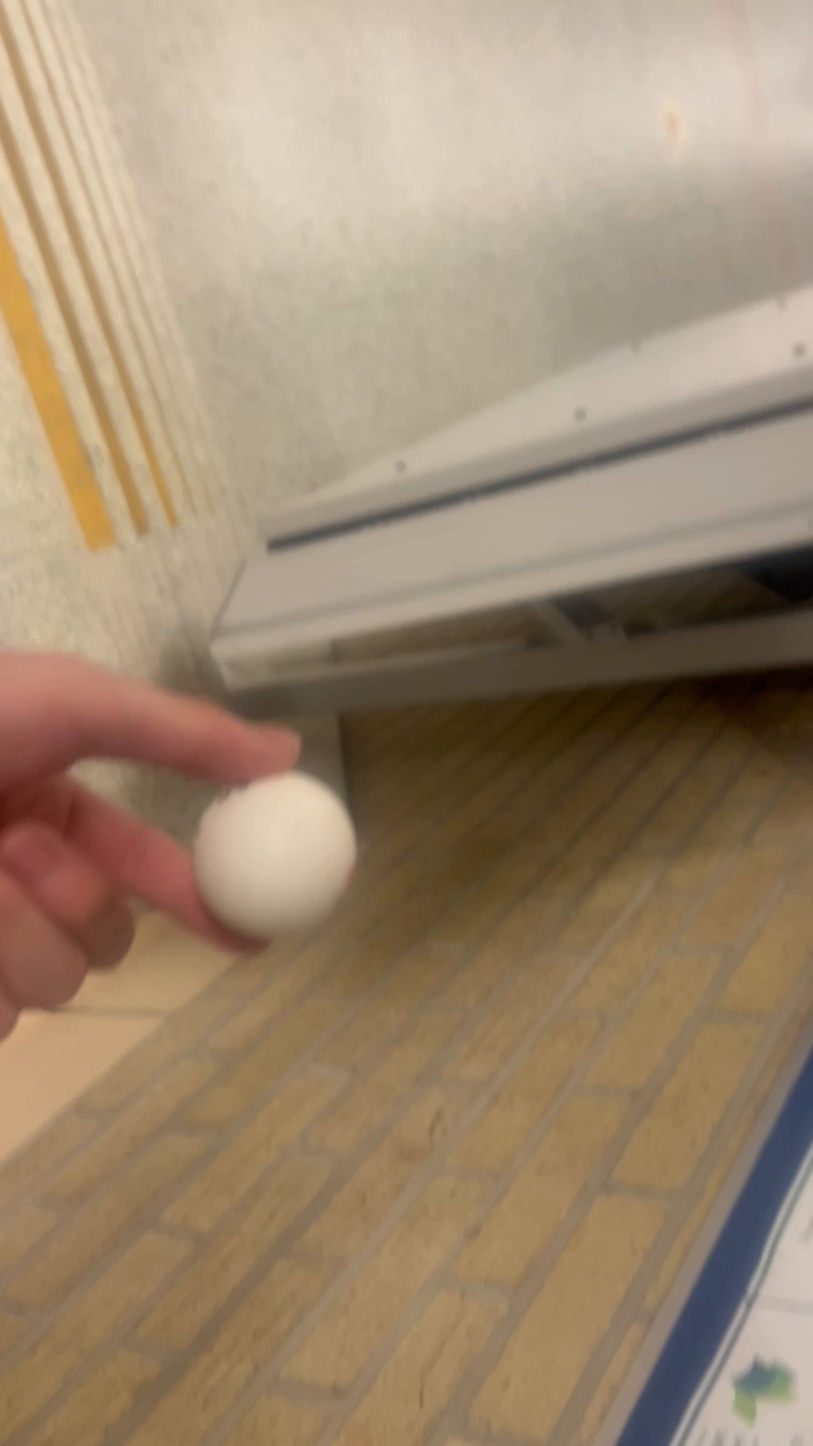Ball: (191, 766, 336, 950)
